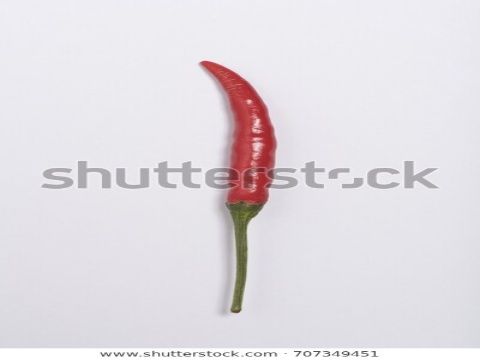Chilli: (181, 49, 294, 318)
